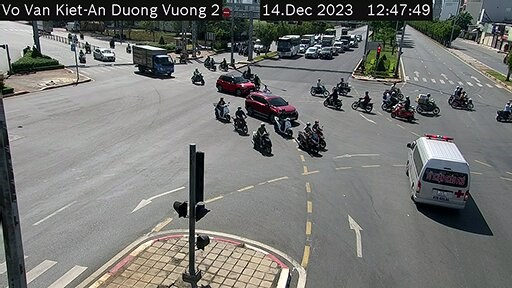car: (408, 136, 474, 207), (245, 89, 298, 124), (218, 71, 254, 99), (276, 33, 296, 66), (92, 45, 114, 64), (304, 45, 315, 60), (320, 46, 331, 58)
motorbike: (414, 90, 440, 122), (211, 95, 232, 126), (256, 122, 274, 157), (380, 89, 403, 116), (448, 83, 471, 110), (272, 116, 291, 143), (311, 116, 327, 148), (297, 125, 315, 153), (356, 89, 372, 118), (398, 94, 414, 120), (234, 109, 248, 138), (189, 70, 206, 92), (311, 76, 327, 99), (325, 86, 341, 109), (499, 98, 510, 129), (336, 76, 351, 96), (388, 82, 400, 103), (242, 63, 251, 78)
truck: (130, 43, 179, 87)
